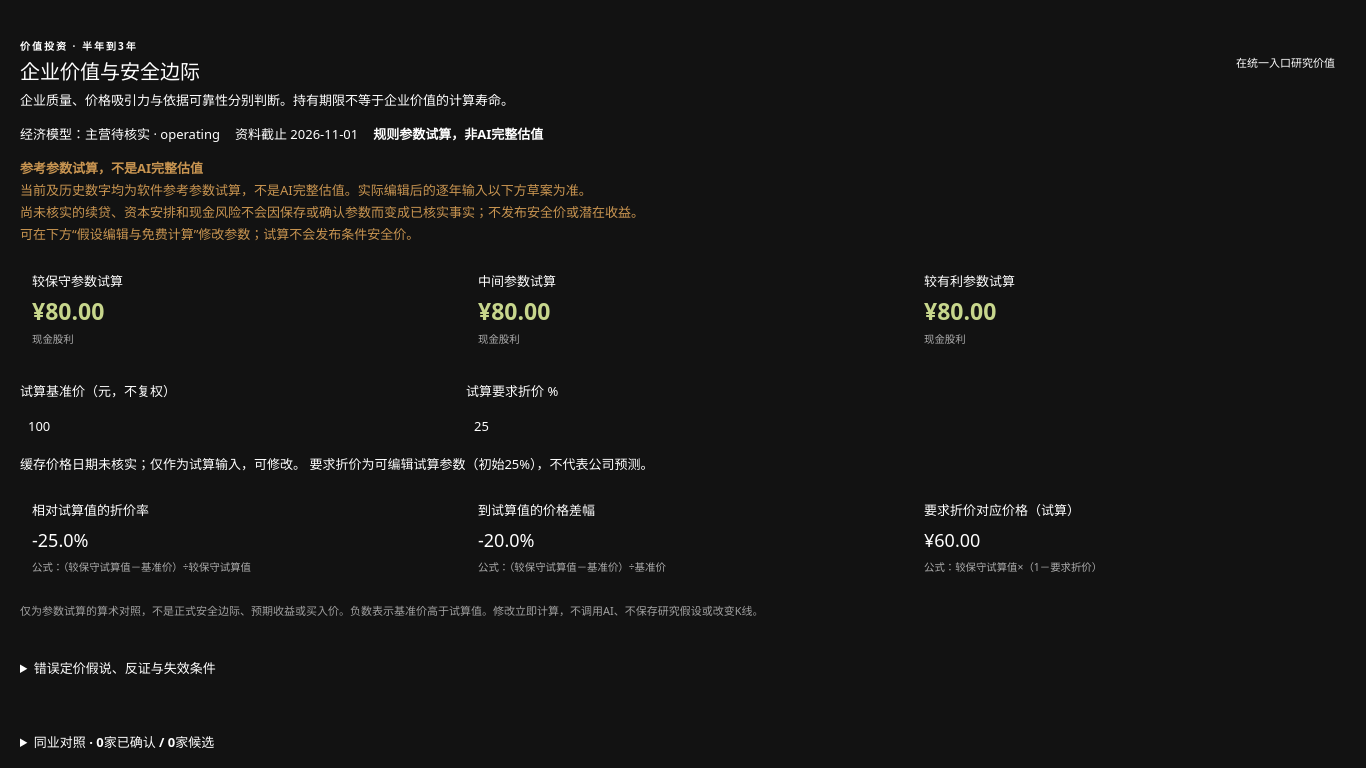
Scenario: updates each formula when inputs change, preserves a deliberate zero discount, and rejects missing or invalid inputs
Replace the text in the number field labelled "试算基准价（元，不复权）" with "64" at (237,426), box [20, 406, 454, 445]
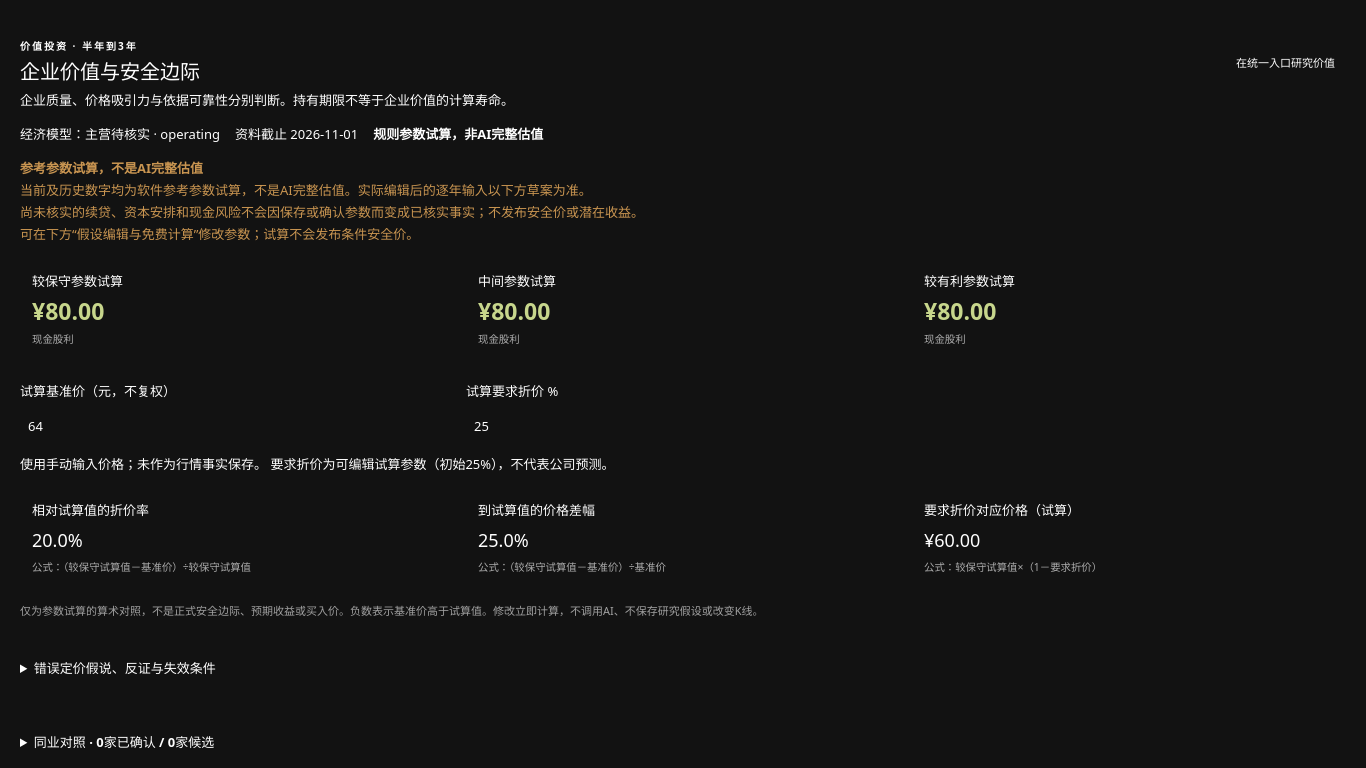
Replace the text in the number field labelled "试算要求折价 %" with "0" at (683,426), box [466, 406, 900, 445]
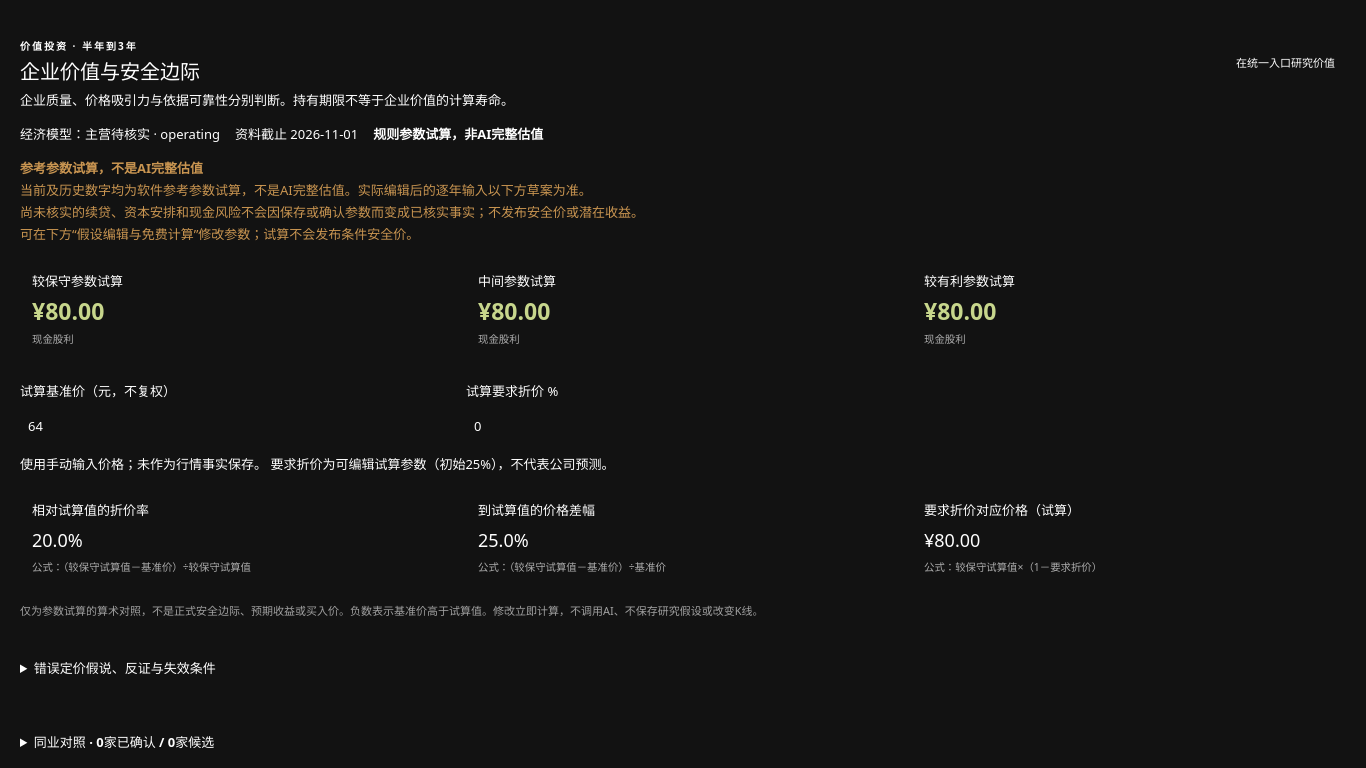
Result: the text "20.0%" is shown at [32, 528, 83, 552]
Result: the text "25.0%" is shown at [478, 528, 529, 552]
Result: the text "¥80.00" below "要求折价对应价格（试算）" is shown at [924, 528, 980, 552]
Replace the text in the number field labelled "试算基准价（元，不复权）" with "0" at (237,426), box [20, 406, 454, 445]
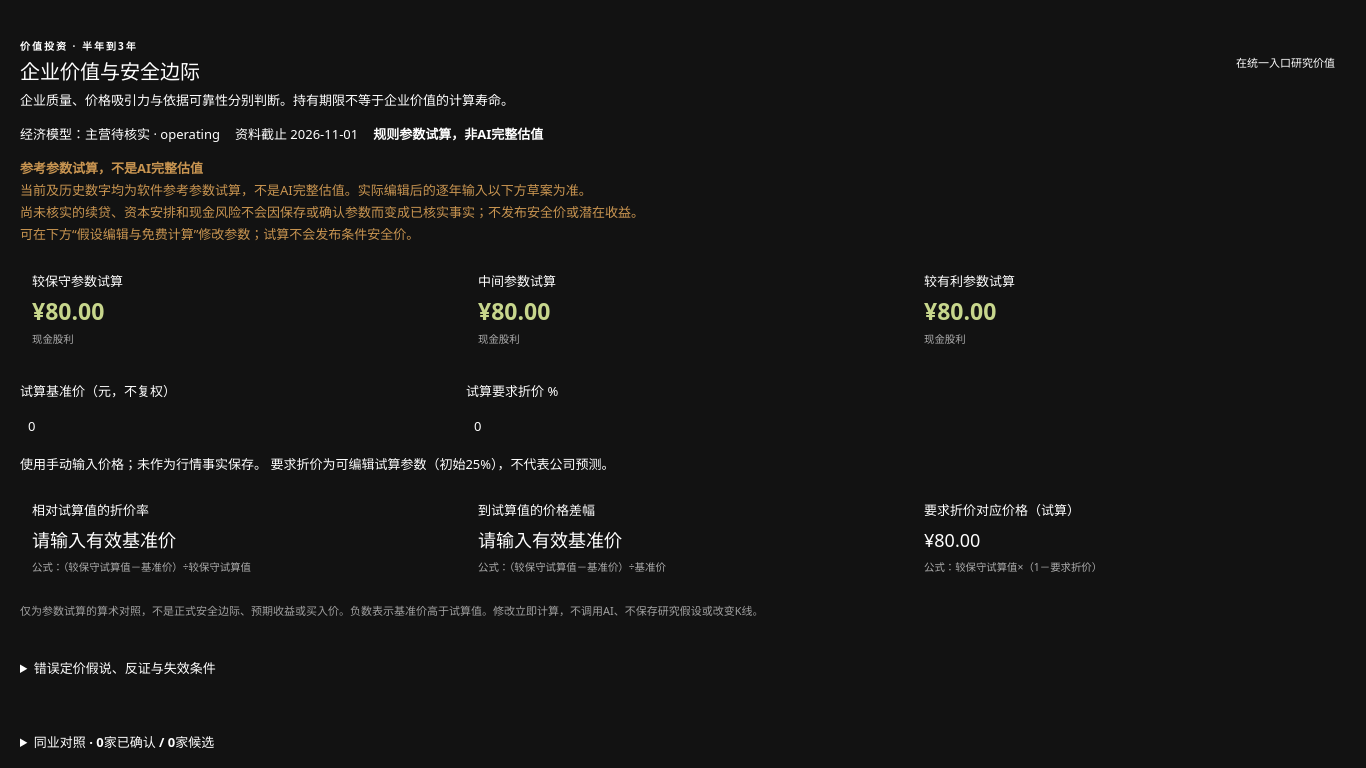
Result: the text "请输入有效基准价" below "相对试算值的折价率" is shown at [32, 528, 176, 552]
Clear the number field labelled "试算基准价（元，不复权）" at (237,426), box [20, 406, 454, 445]
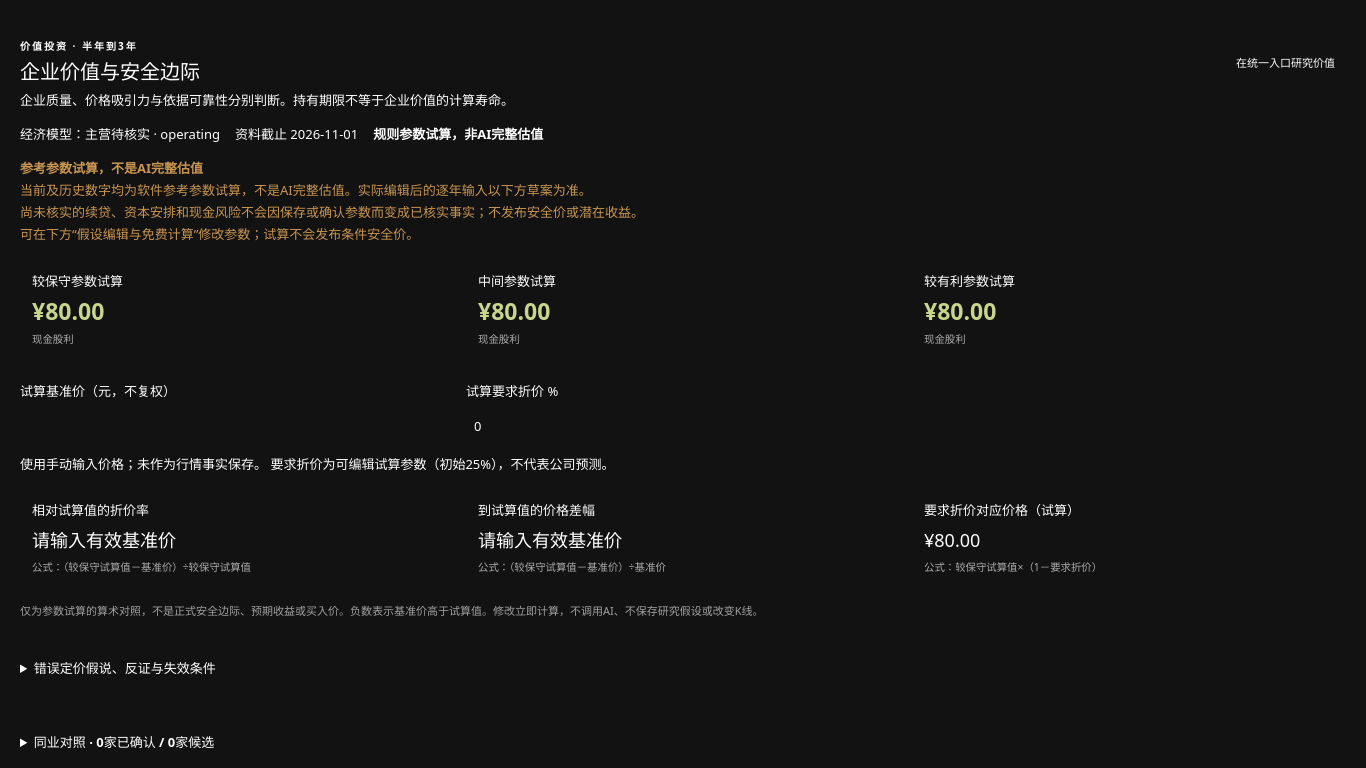
Result: the text "请输入有效基准价" below "到试算值的价格差幅" is shown at [478, 528, 622, 552]
Replace the text in the number field labelled "试算要求折价 %" with "90" at (683,426), box [466, 406, 900, 445]
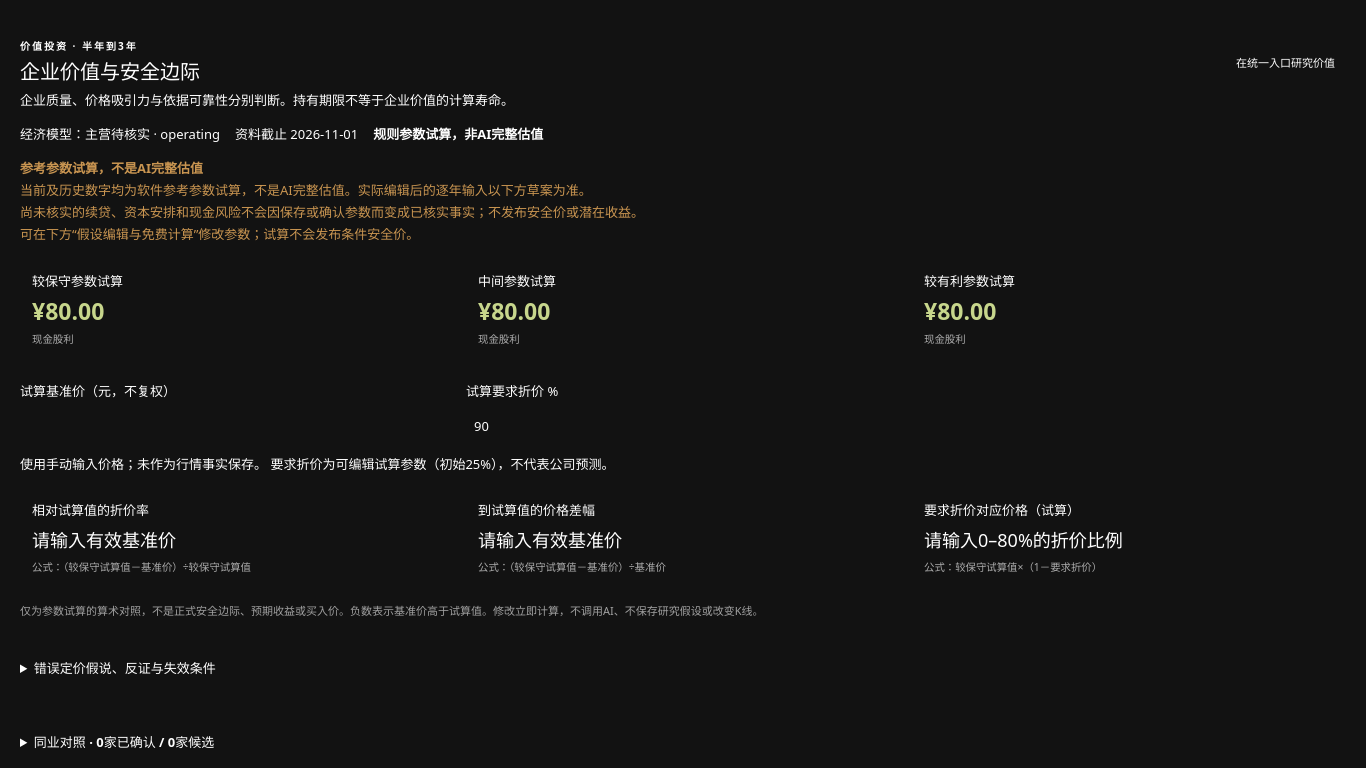
Result: the text "请输入0–80%的折价比例" is shown at [924, 528, 1123, 552]
